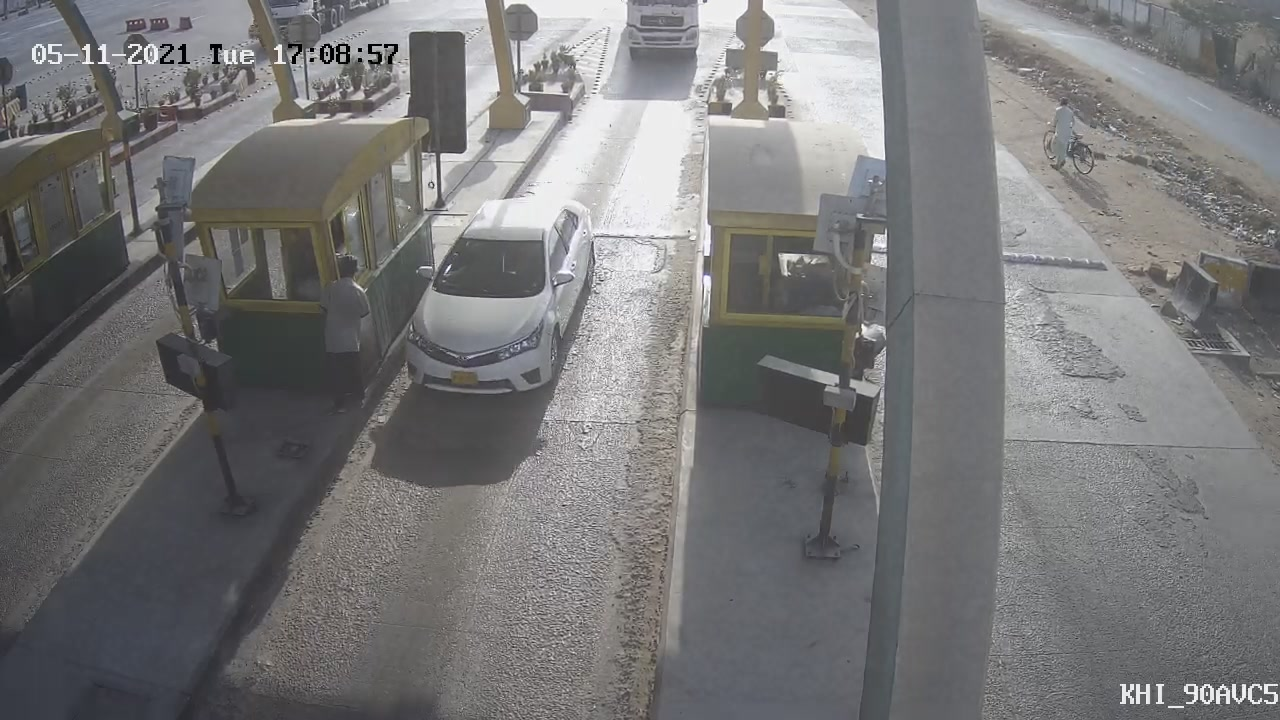F1: (385, 172, 612, 417)
